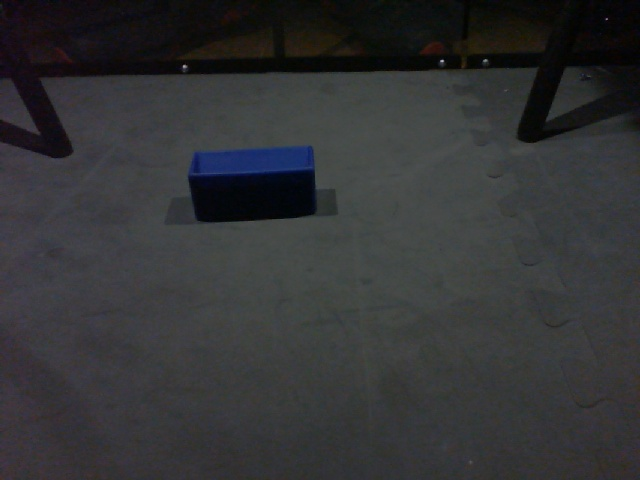BlueSample: (186, 144, 322, 224)
